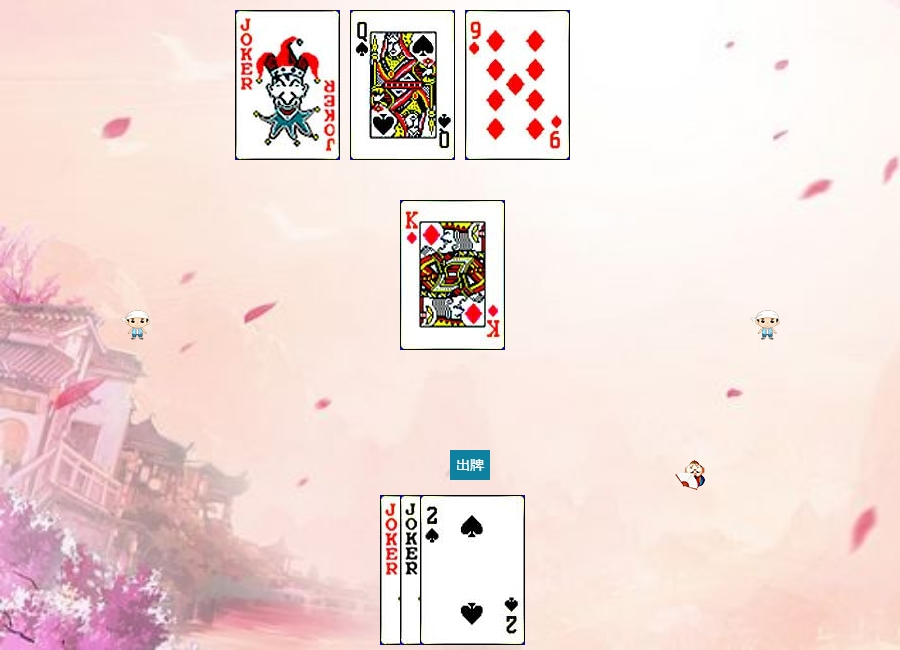12~4: (350, 10, 455, 160)
13~1: (400, 200, 505, 350)
15~4: (420, 495, 525, 645)
17~3: (400, 495, 505, 645)
18~4: (235, 10, 340, 160), (380, 495, 485, 645)
9~1: (465, 10, 570, 160)
